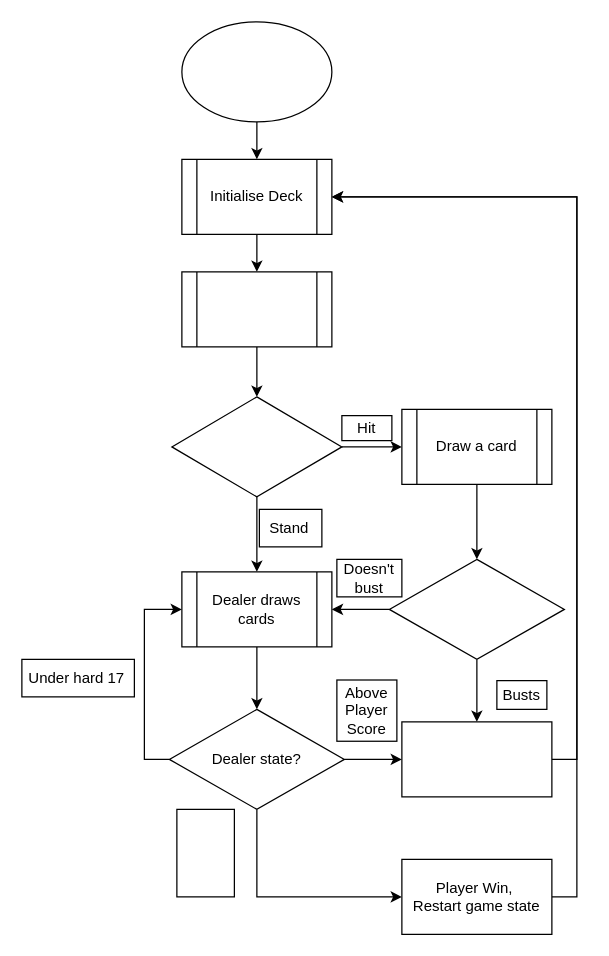
Some shapes in this 609 by 956 pixel diagram are drawn without their labels. The shapes that lost their labels are listed below. From the top down, each one's centre as x and y in pixels, then its label:
At point (256, 71): "Program start".
At point (256, 309): "Deal Initial cards".
At point (256, 446): "Player Action".
At point (476, 608): "Player Bust?".
At point (476, 759): "Player Loss, Restart game state".
At point (205, 852): "Bust or 16 < Score < Player score".
